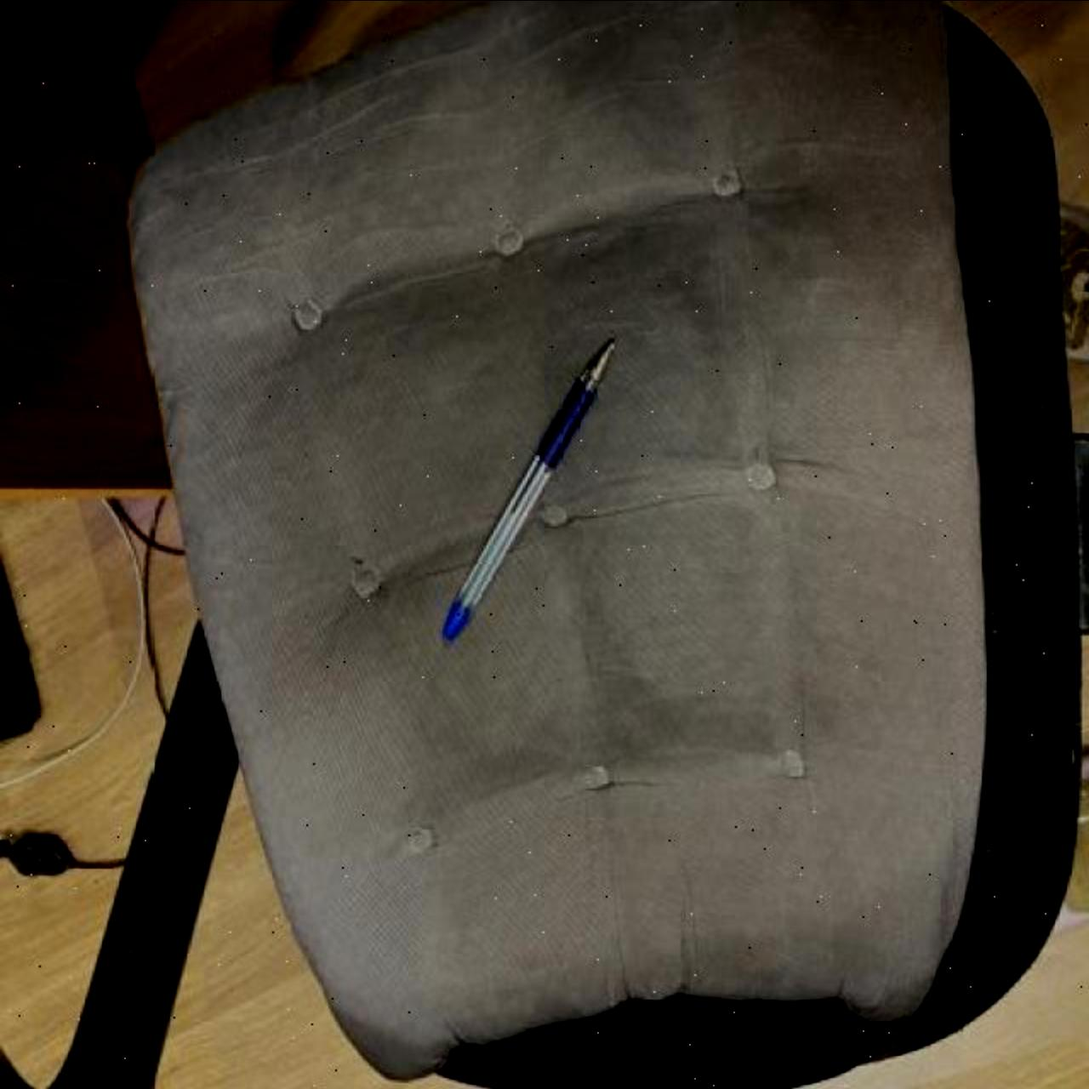pen: (441, 339, 616, 643)
